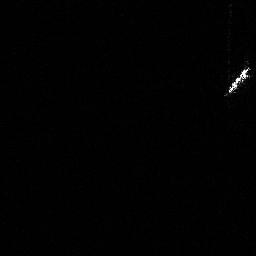ship: (221, 63, 253, 98)
